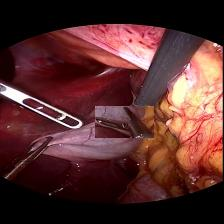Grasper: (2, 74, 91, 131), (1, 134, 55, 181), (95, 105, 154, 137)
